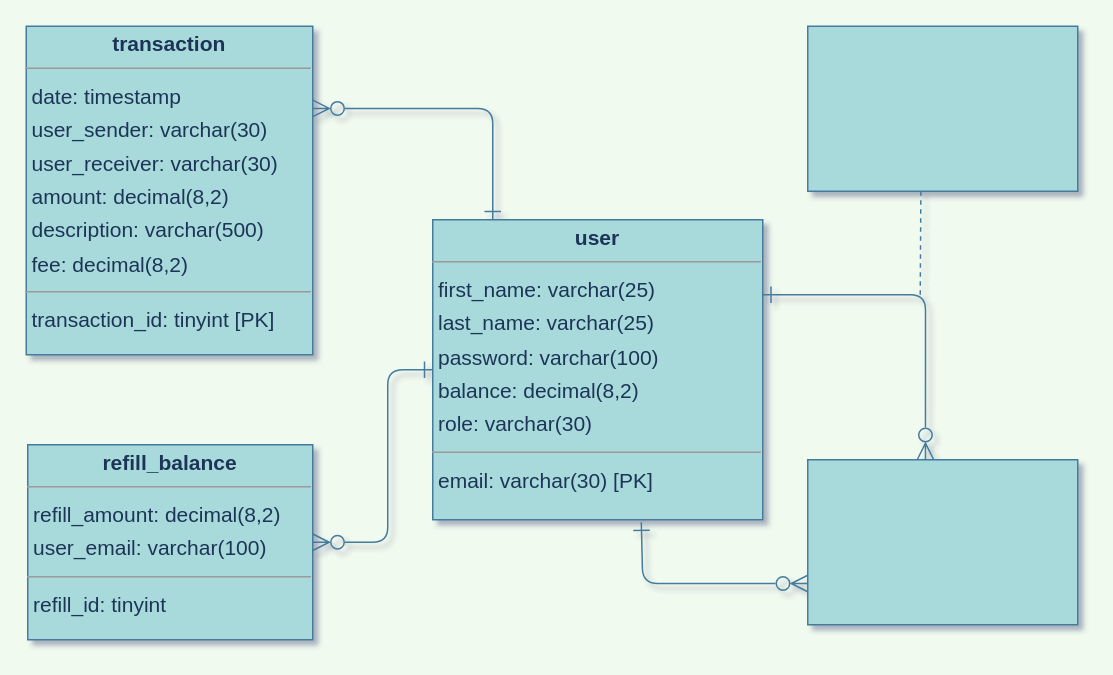
The diagram is 1113 pixels wide and 675 high, and some of its shapes have lost their labels. Each missing label, with the centre of its shape:
contact user_email: varchar(30) contact_email: varchar(25): point 942,541
user_contact friend_email: varchar(30) user_email: tinyint: point 942,108
